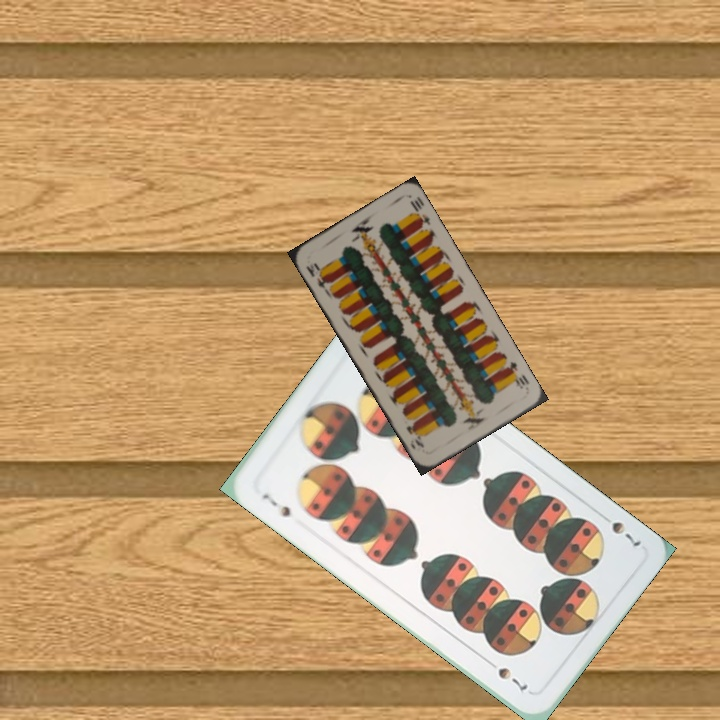E10: (302, 259, 332, 294), (502, 357, 532, 392)
S7: (595, 509, 643, 550), (258, 489, 294, 520)
